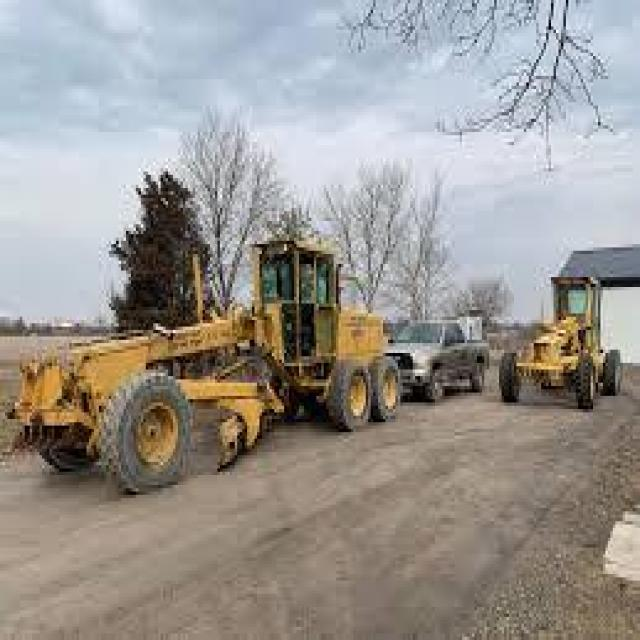Grader: (0, 231, 403, 498), (494, 254, 638, 412)
